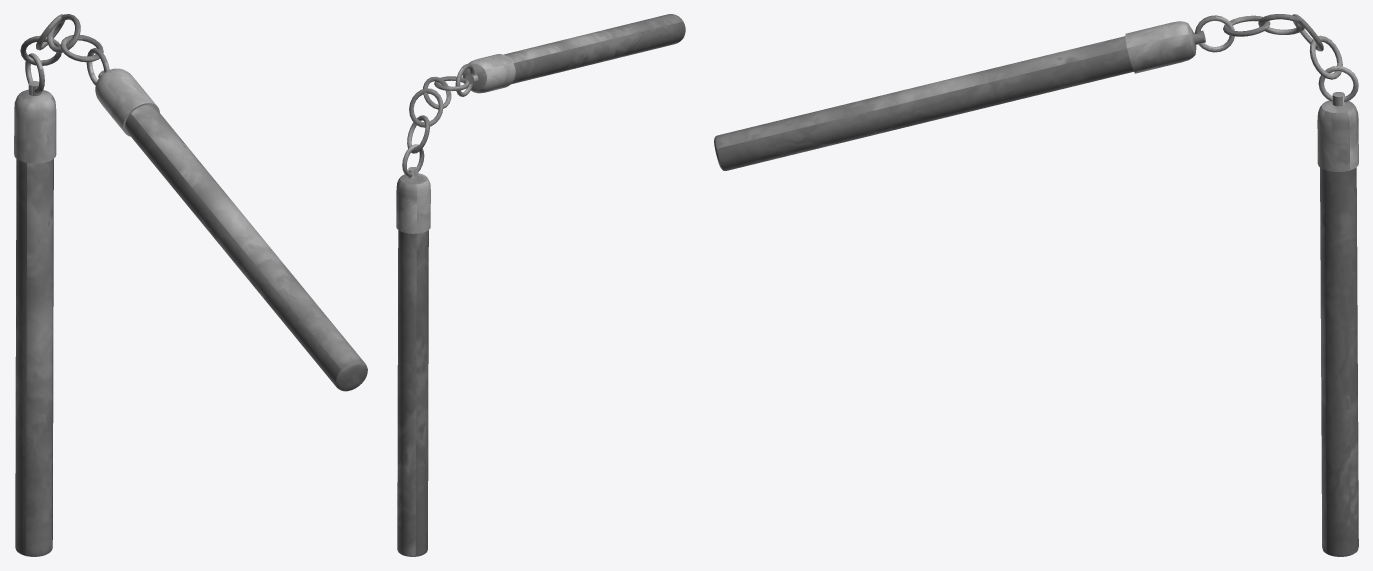
File: SM_nunchaku.fbx
3 renders of one model, left to right at view 1: azimuth 30°, elevation 25°; view 2: azimuth 150°, elevation 25°; view 3: azimuth 270°, elevation 25°, orthographic. The views are drawn at different scales.
Parts seen in each view (by area): view 1: SM_nunchaku; view 2: SM_nunchaku; view 3: SM_nunchaku.
Boxes of the visible parts, x1=… form: SM_nunchaku: x1=14, y1=14, x2=367, y2=556; SM_nunchaku: x1=396, y1=14, x2=685, y2=556; SM_nunchaku: x1=714, y1=14, x2=1358, y2=556.
Size of the model in its own units: 4.53 by 70.87 by 65.7.
Materials: 1 (1 with a texture image).
